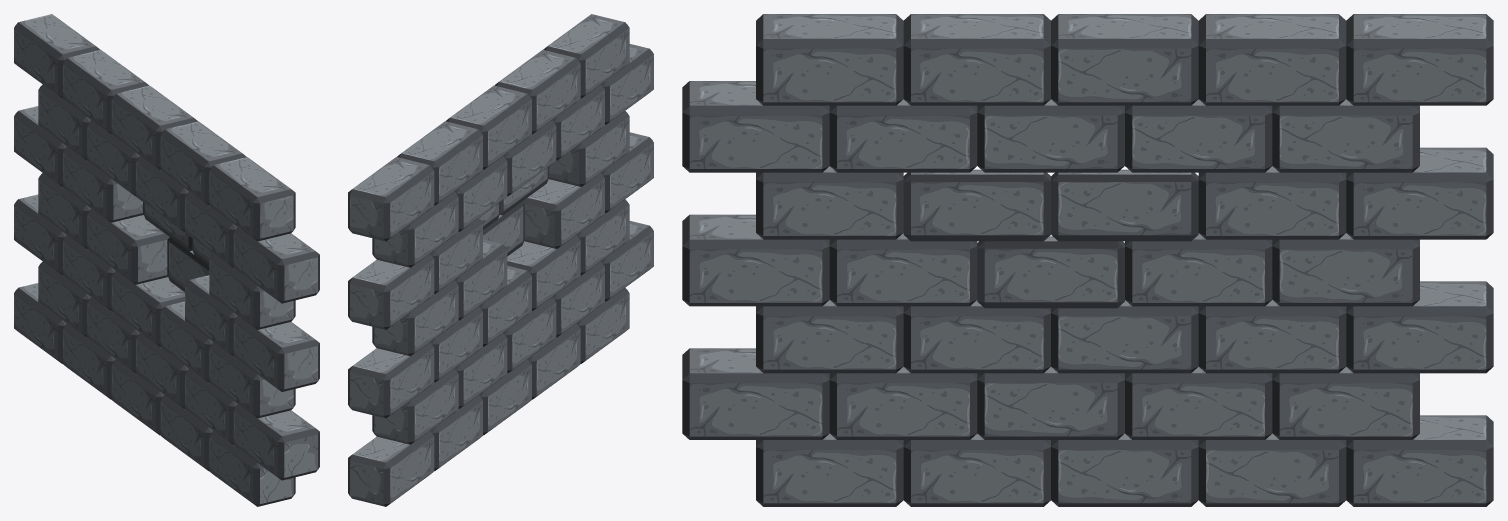
Rendered from M_Parete_Sotterraneo_Incavo.fbx.
3 views of the same model, side by side, from view 1: azimuth 30°, elevation 25°; view 2: azimuth 150°, elevation 25°; view 3: azimuth 270°, elevation 25° (orthographic). The views are drawn at different scales.
Parts seen in each view (by area): view 1: Parete_Incavata; view 2: Parete_Incavata; view 3: Parete_Incavata.
Part boxes in pixels (x1,y1,x2,y2): Parete_Incavata: (14,14,319,506); Parete_Incavata: (348,14,653,506); Parete_Incavata: (682,14,1493,506).
Bounding box in the file's own units: 1 × 7 × 11.
